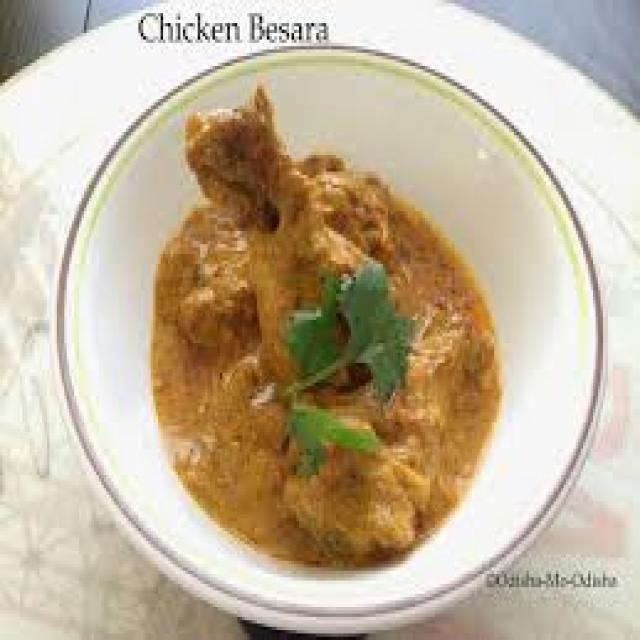Chicken Curry: (148, 82, 507, 561)
